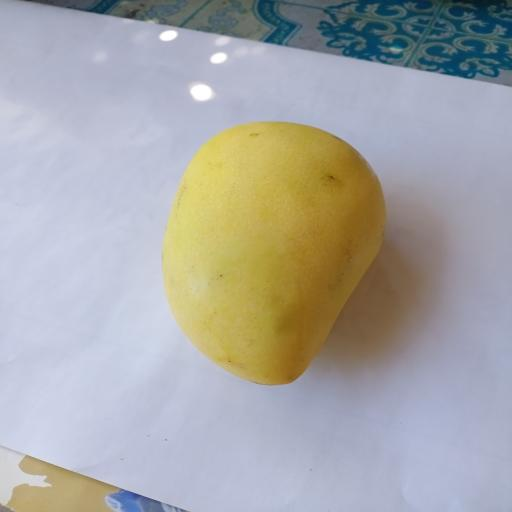mango-ripe: (150, 99, 403, 413)
